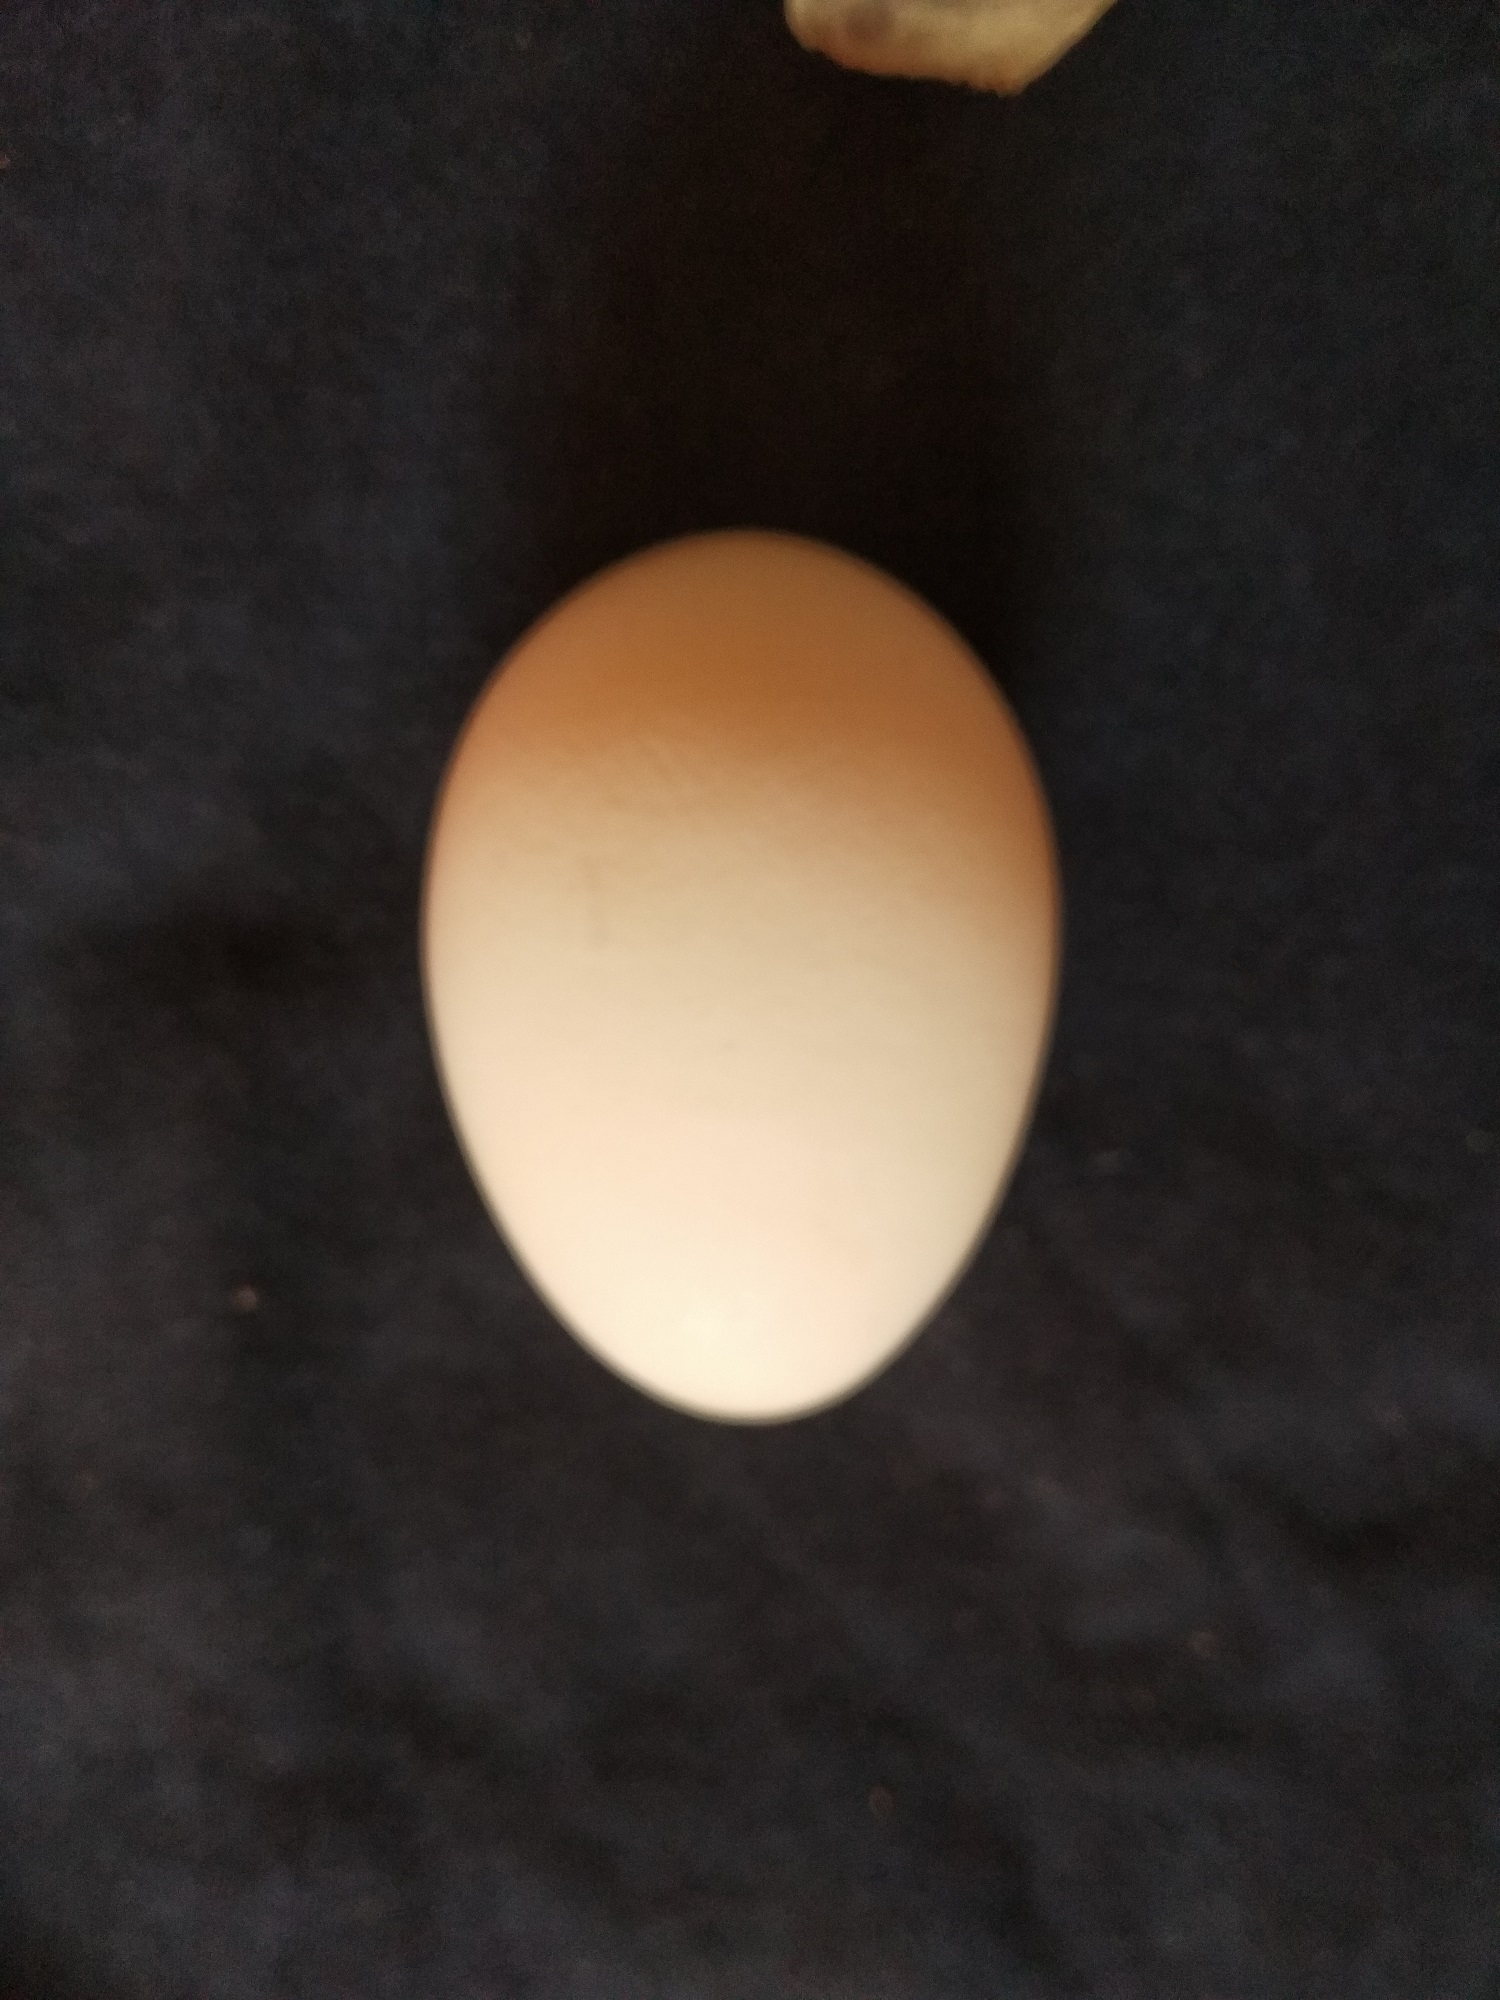Male: (405, 521, 1079, 1438)
